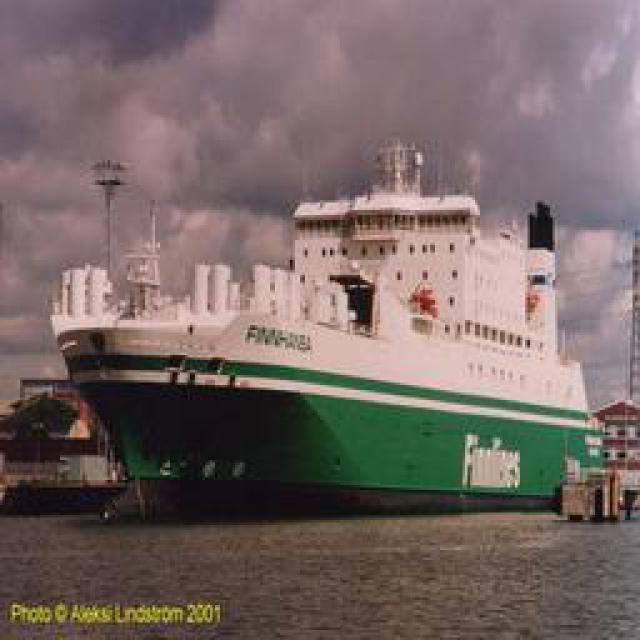Ship: (55, 151, 628, 521)
